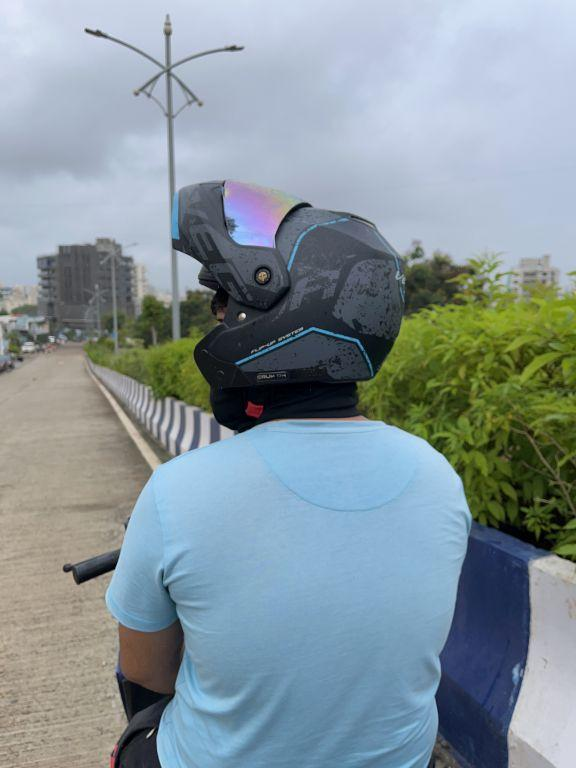helmet: (164, 170, 420, 410)
